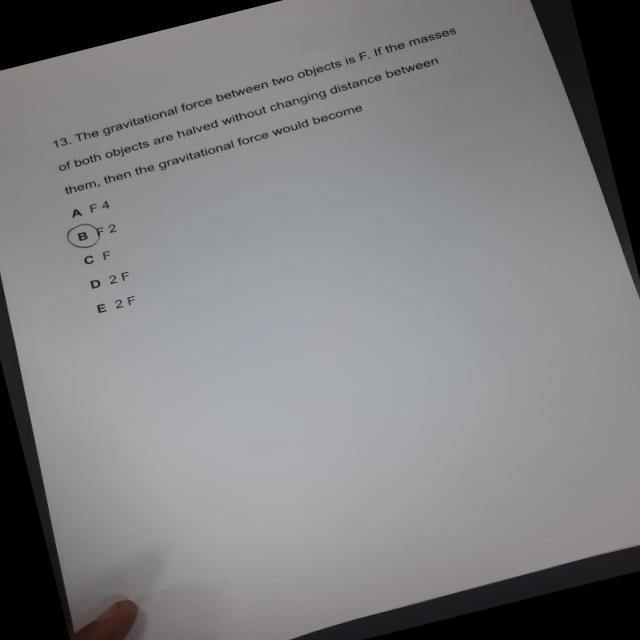B: (61, 220, 108, 256)
